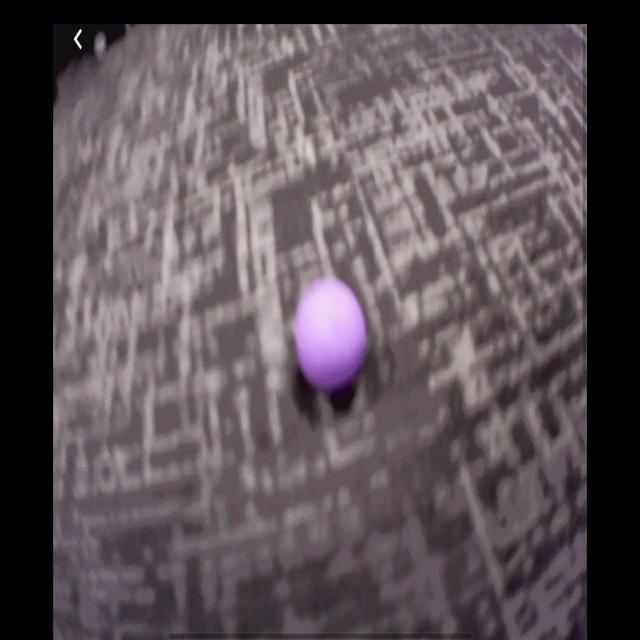ball: (295, 283, 367, 391)
